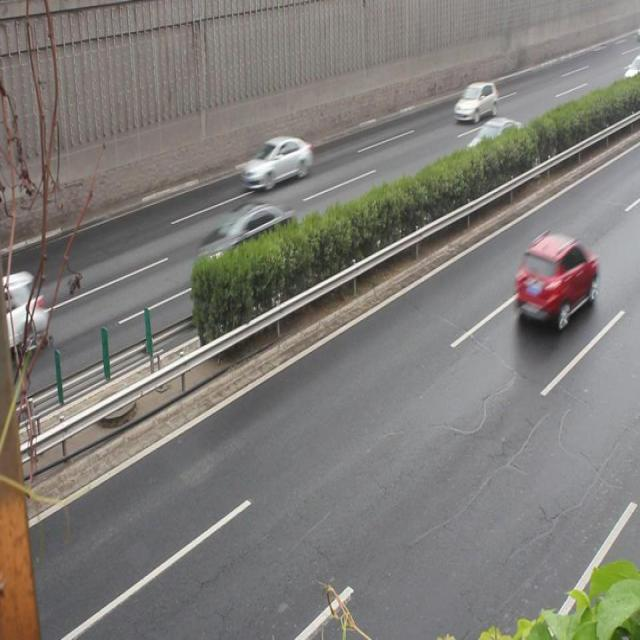car: (194, 204, 295, 286), (513, 232, 595, 325), (241, 136, 312, 191), (467, 116, 522, 168), (453, 80, 496, 121)
